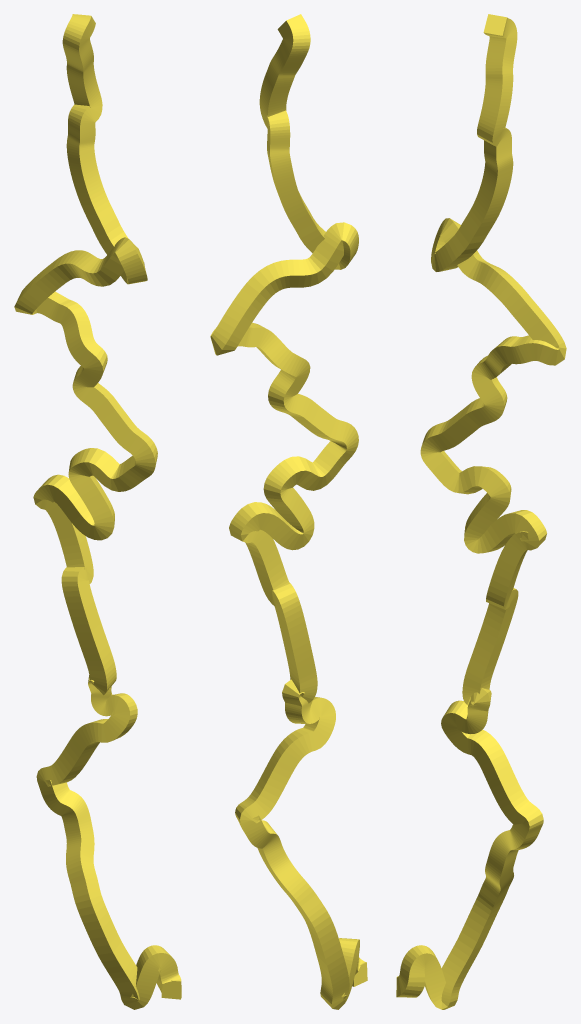
The model's file is Lighting.fbx.
3 views of the same model, side by side, from view 1: azimuth 90°, elevation 25°; view 2: azimuth 150°, elevation 25°; view 3: azimuth 270°, elevation 25° (orthographic). The views are drawn at different scales.
Parts seen in each view (by area): view 1: Cube; view 2: Cube; view 3: Cube.
Part boxes in pixels (<box>): Cube: <box>14,14,181,1009</box>; Cube: <box>210,14,367,1009</box>; Cube: <box>396,14,566,1009</box>.
Bounding box in the file's own units: 28.62 × 307 × 47.21.
